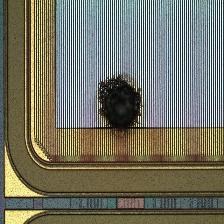PARTICLE: (89, 72, 153, 136)
